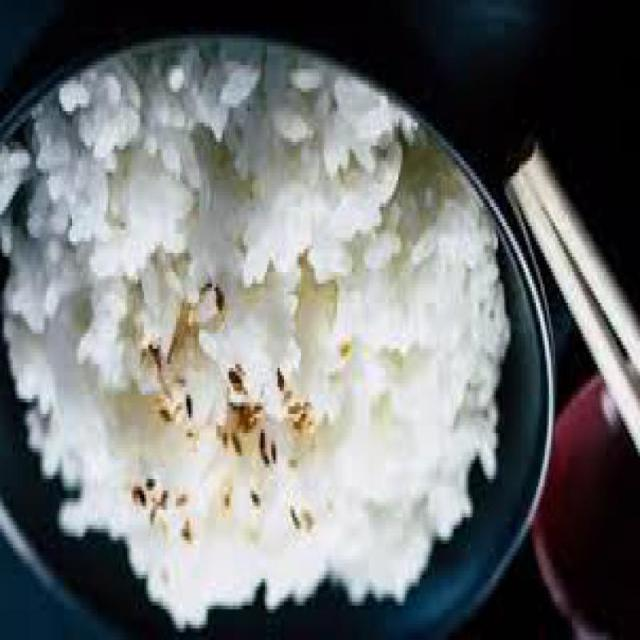nasi_putih: (2, 33, 510, 632)
